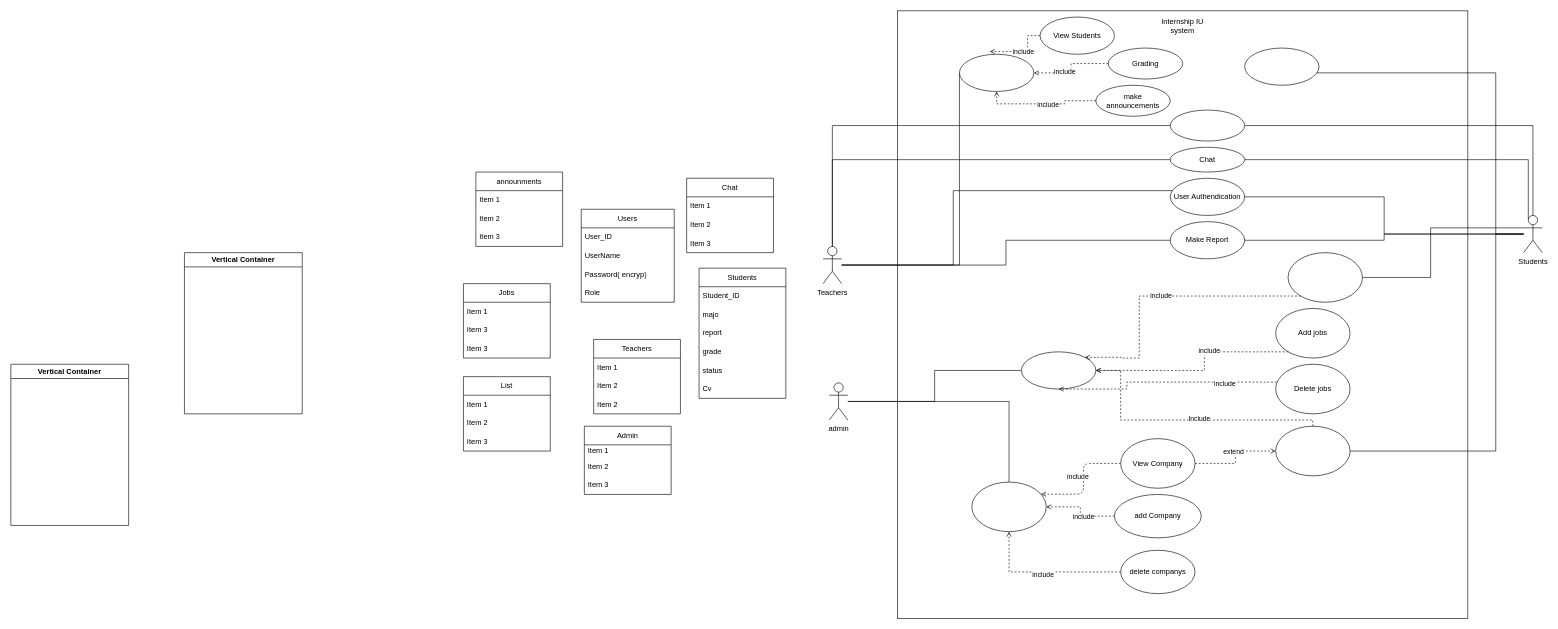
The diagram is 1558 pixels wide and 629 high, and some of its shapes have lost their labels. The shapes that lost their labels are listed below. From the top down, each one's centre as x and y in pixels, then its label:
At [996,72]: "Manager Students".
At [1281,66]: "Add CV".
At [1207,125]: "notification".
At [1324,277]: "Apply job".
At [1058,370]: "Manager Jobs".
At [1312,451]: "View Jobs".
At [1008,506]: "Manager company".
